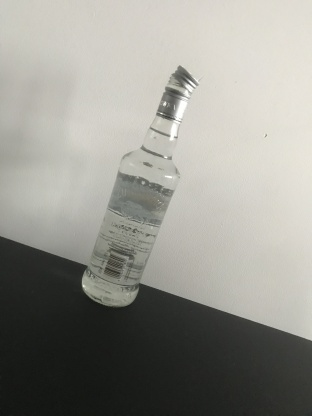nakretka: (154, 62, 200, 126)
